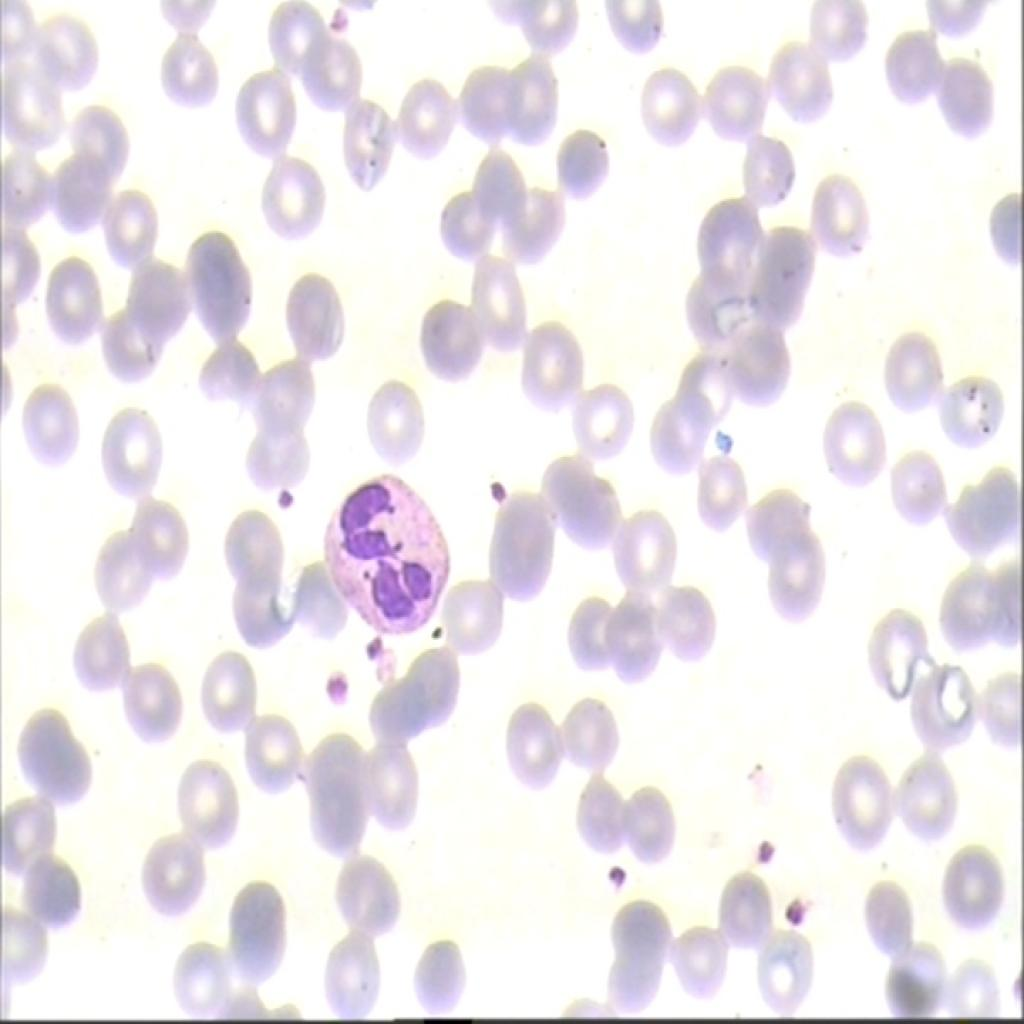Neutrofil: (317, 453, 458, 633)
Platelet: (703, 418, 745, 464), (596, 857, 641, 899), (310, 0, 354, 39), (752, 816, 780, 871), (265, 477, 300, 519), (782, 885, 811, 935), (481, 462, 512, 508), (320, 663, 353, 704), (361, 631, 393, 672)
